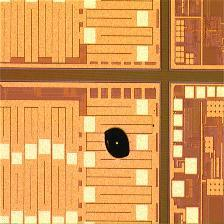PARTICLE: (103, 125, 134, 162)
